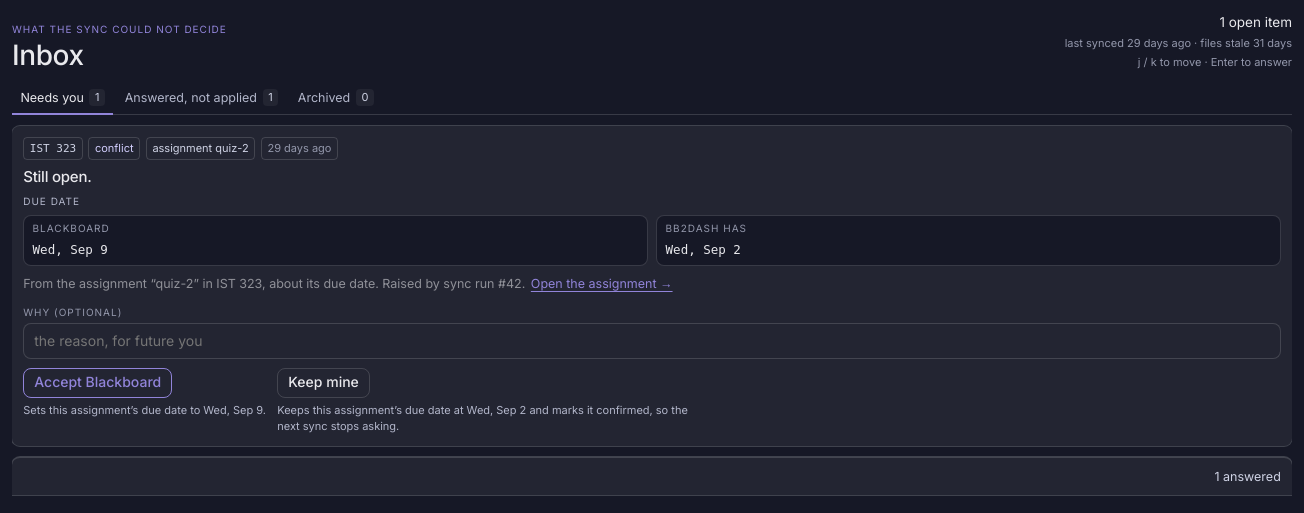
Test: Inbox — grouping › keeps dismissed rows under Answered, not applied
Expected: the text "Already dismissed." is not shown
What coordinates should you click on to do the following:
click the tab "Answered, not applied 1"
I would click on:
 (201, 98)
Its box is [116,82,287,115].
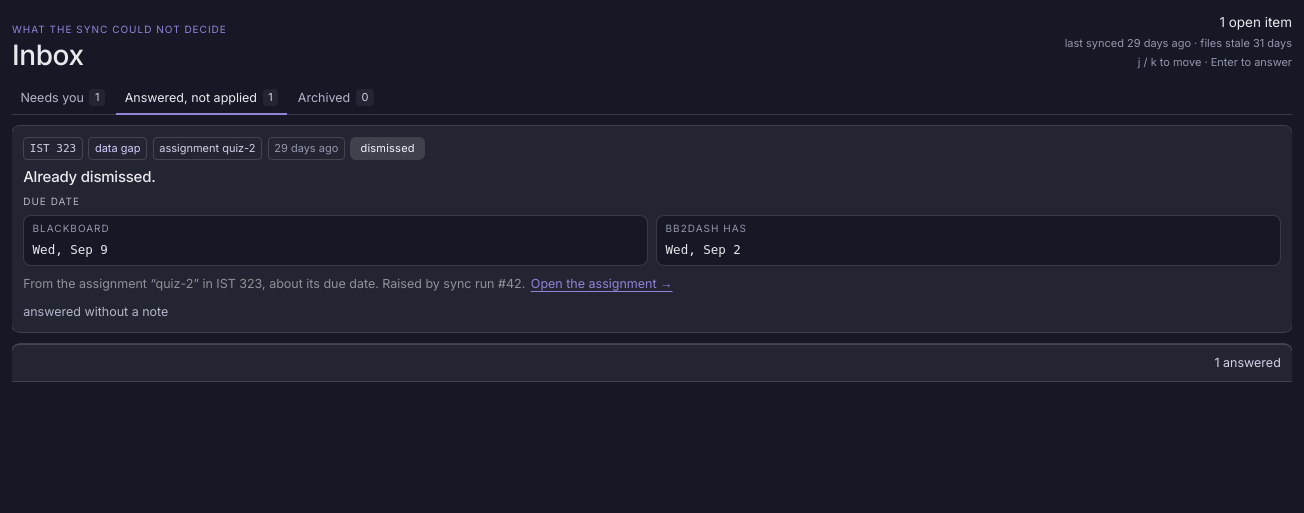
Now the heading "Already dismissed." is shown, box [23,167,156,186]
